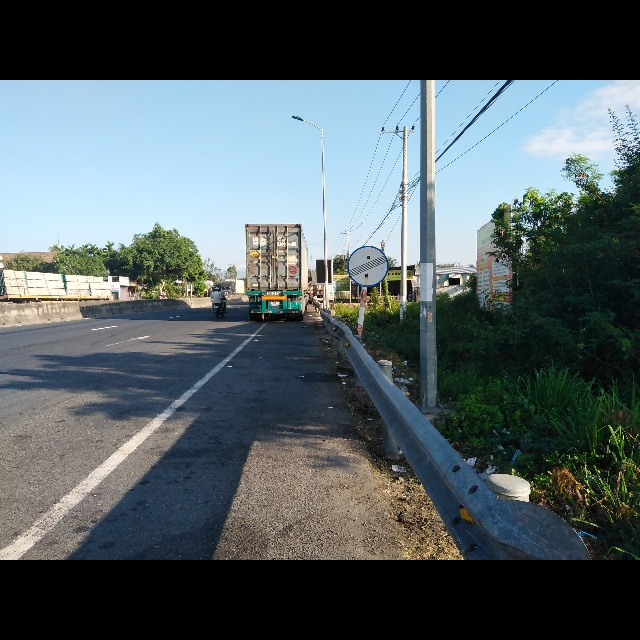Hết tất cả các lệnh cấm: (346, 243, 389, 285)
